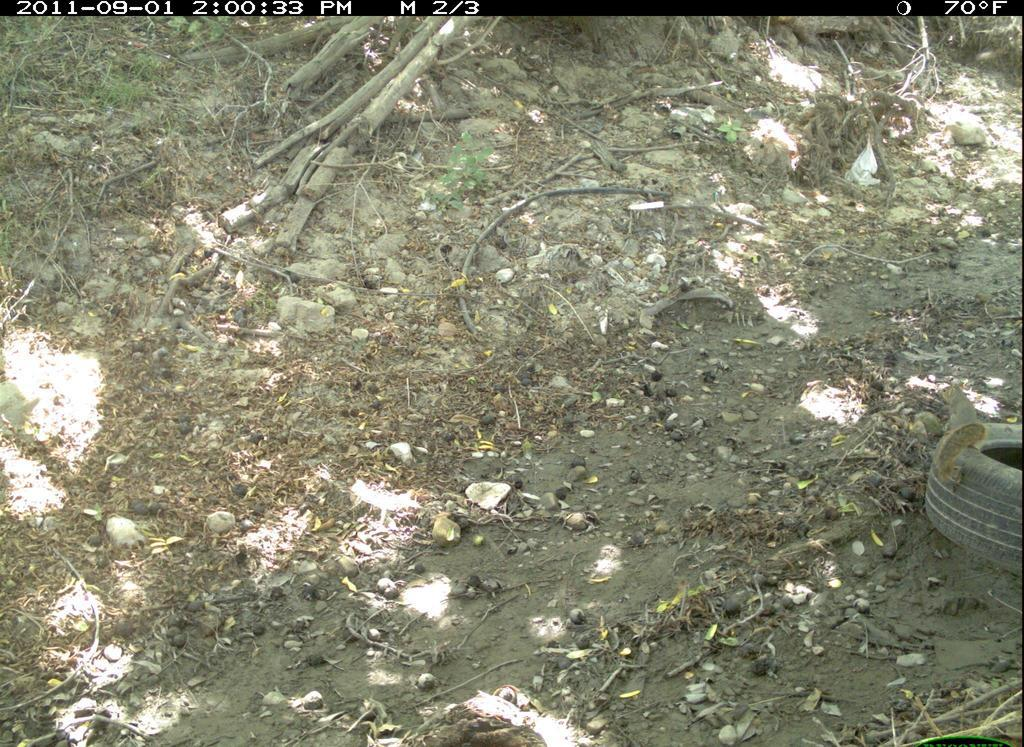squirrel: (930, 365, 989, 493)
